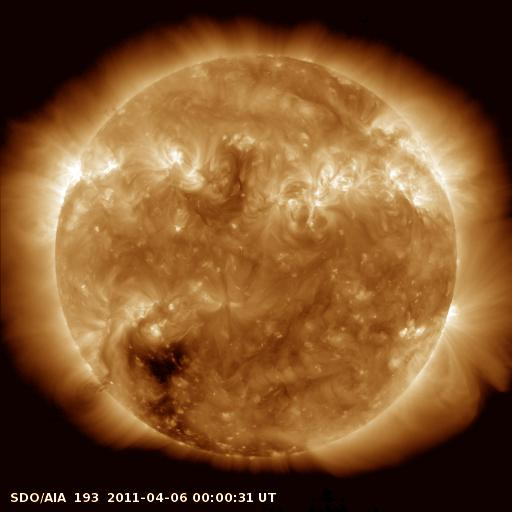coronal_hole: (129, 333, 205, 440)
